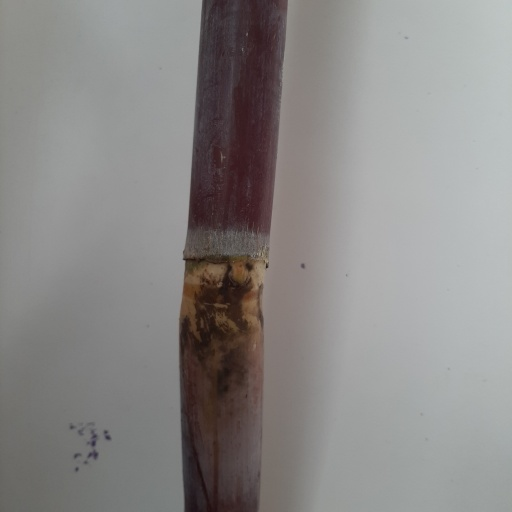Bud: (227, 260, 253, 291)
